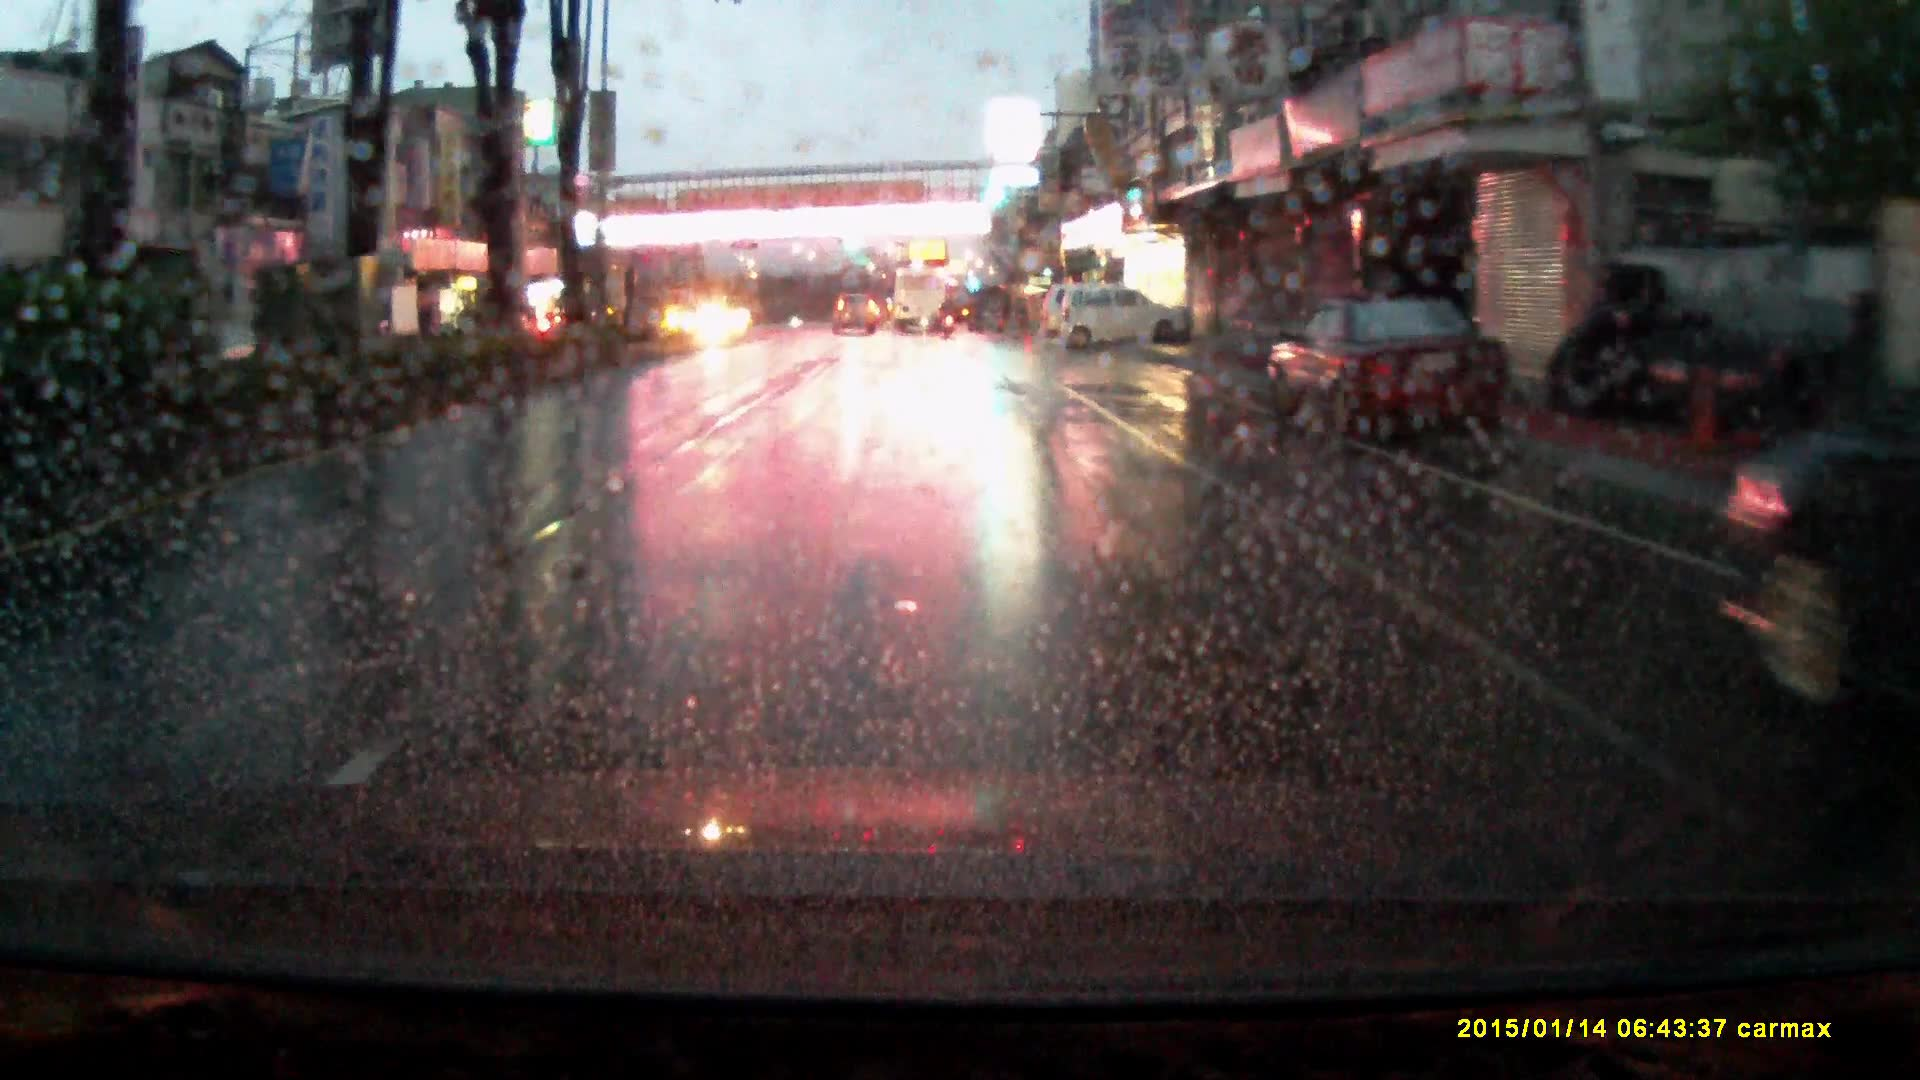vehicle: (1721, 406, 1920, 752), (1269, 301, 1515, 446), (1064, 281, 1189, 357), (893, 269, 948, 336), (1040, 286, 1087, 342), (833, 295, 880, 338)
